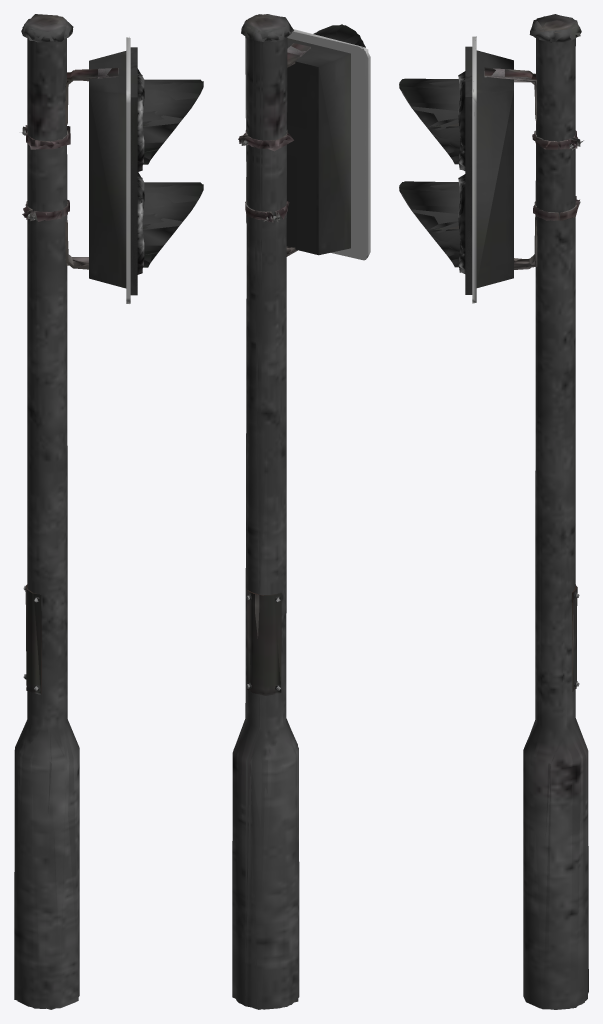
File: sm_traffic_lamp_002.glb
3 renders of one model, left to right at view 1: azimuth 90°, elevation 25°; view 2: azimuth 150°, elevation 25°; view 3: azimuth 270°, elevation 25°, orthographic.
Visible parts, largest first — view 1: sm_traffic_lamp_002_00; view 2: sm_traffic_lamp_002_00; view 3: sm_traffic_lamp_002_00.
Boxes of the visible parts, x1,y1,x2,y2 form: sm_traffic_lamp_002_00: (14,14,203,1009); sm_traffic_lamp_002_00: (232,14,370,1009); sm_traffic_lamp_002_00: (399,14,588,1009).
Size of the model in its own units: 0.3578 by 2.7 by 0.4773.
1 material, 1 textured.
